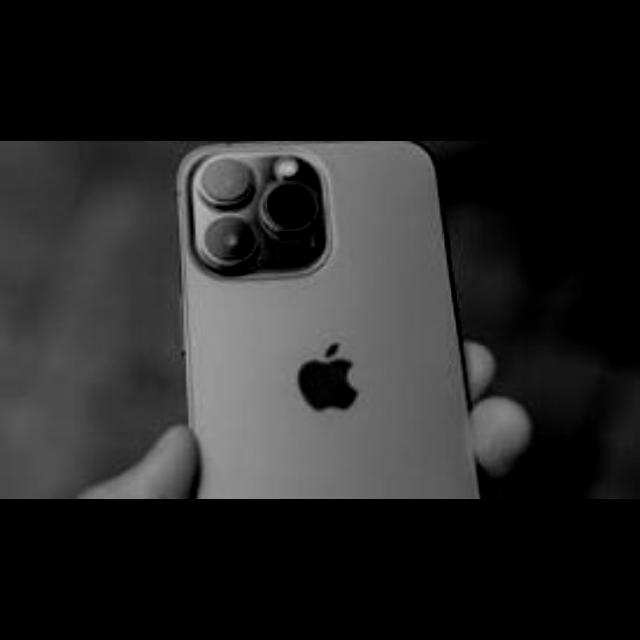fake: (158, 134, 506, 502)
